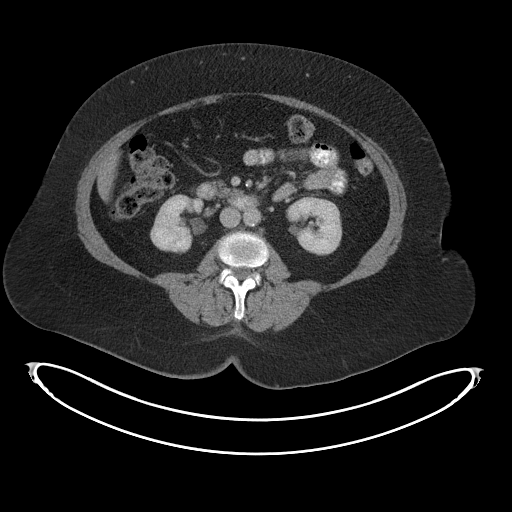Lesion: (318, 217, 326, 225)
